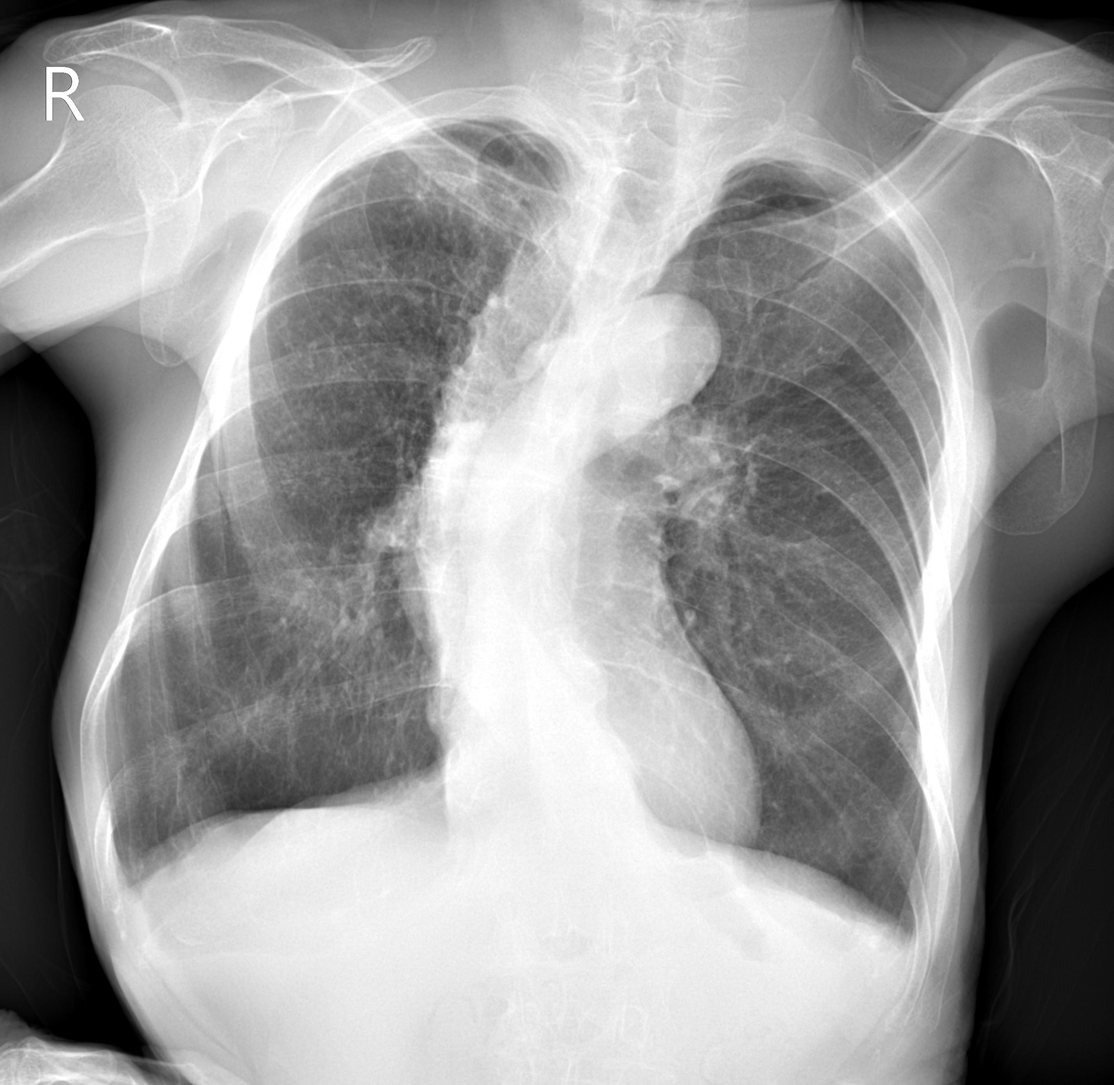Pleural thickening: (879, 885, 937, 970), (97, 846, 165, 906)
Pulmonary fibrosis: (374, 141, 530, 234)
